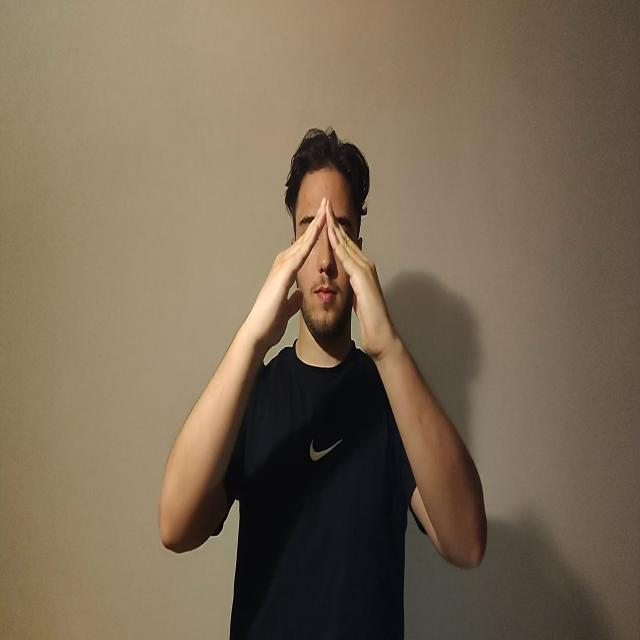house: (244, 202, 389, 356)
